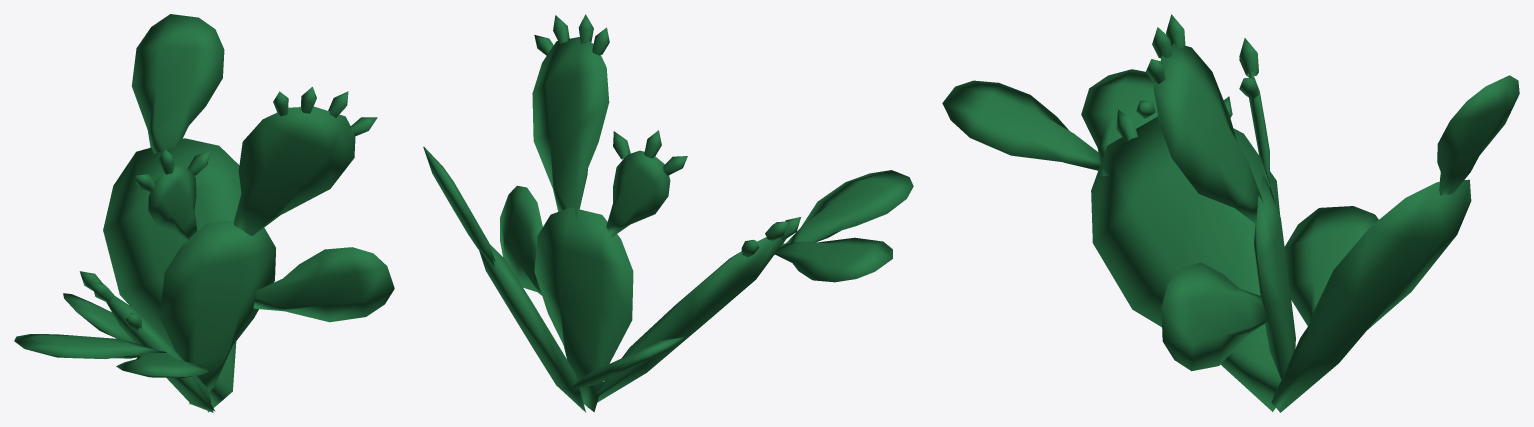
File: cactus.obj
3 renders of one model, left to right at view 1: azimuth 30°, elevation 25°; view 2: azimuth 150°, elevation 25°; view 3: azimuth 270°, elevation 25°, orthographic. The views are drawn at different scales.
Parts seen in each view (by area): view 1: Model__cactus_01; view 2: Model__cactus_01; view 3: Model__cactus_01.
Part boxes in pixels (<box>): Model__cactus_01: <box>14,14,394,412</box>; Model__cactus_01: <box>423,14,913,412</box>; Model__cactus_01: <box>942,14,1519,412</box>.
Bounding box in the file's own units: 2.77 × 2.43 × 3.05.
